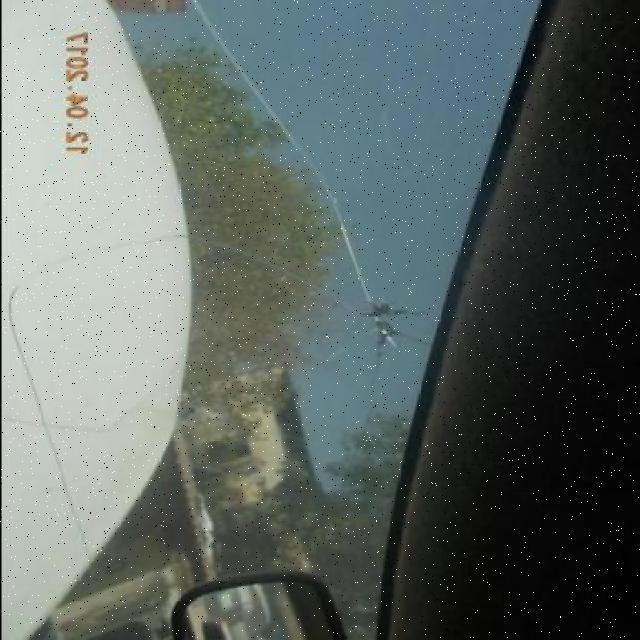damage: (342, 284, 418, 351)
